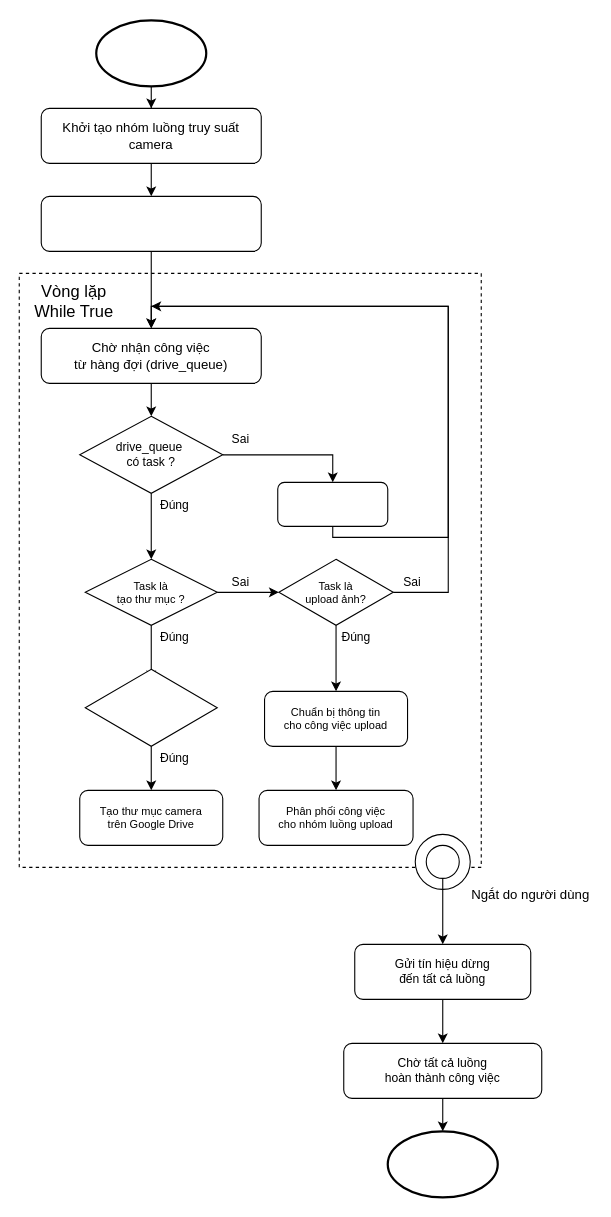
The diagram is 611 pixels wide and 1217 high, and some of its shapes have lost their labels. Each missing label, with the centre of its shape:
"Bắt đầu" goes at pixel 151 53.
"Khởi tạo nhóm luồng upload và cơ chế đồng bộ hóa" goes at pixel 150 223.
"Kết thúc" goes at pixel 442 1164.
"Nghỉ 0.1s" goes at pixel 332 503.
"Thư mục camera chưa tồn tại?" goes at pixel 150 707.
